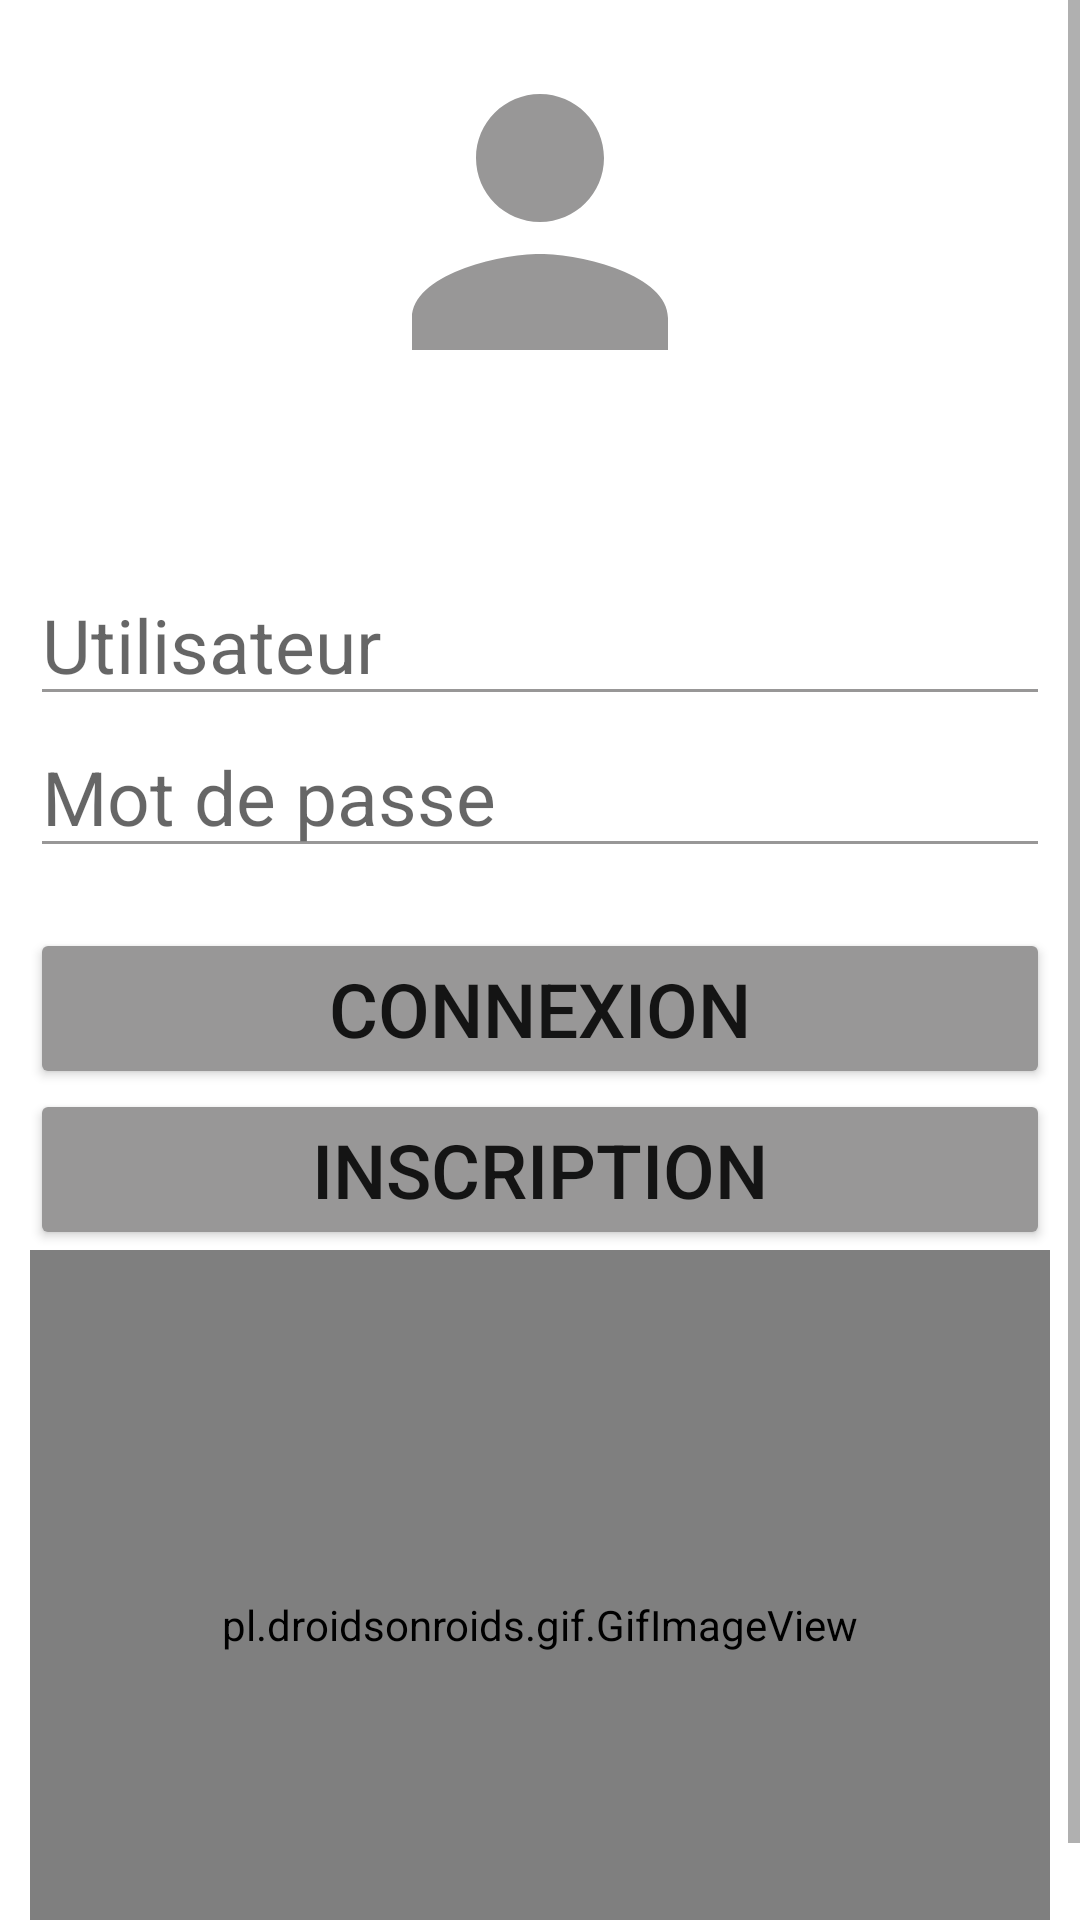

Named icons in this screenshot (1080*1920) and their centers, point (x, y):
person: point (540, 222)
